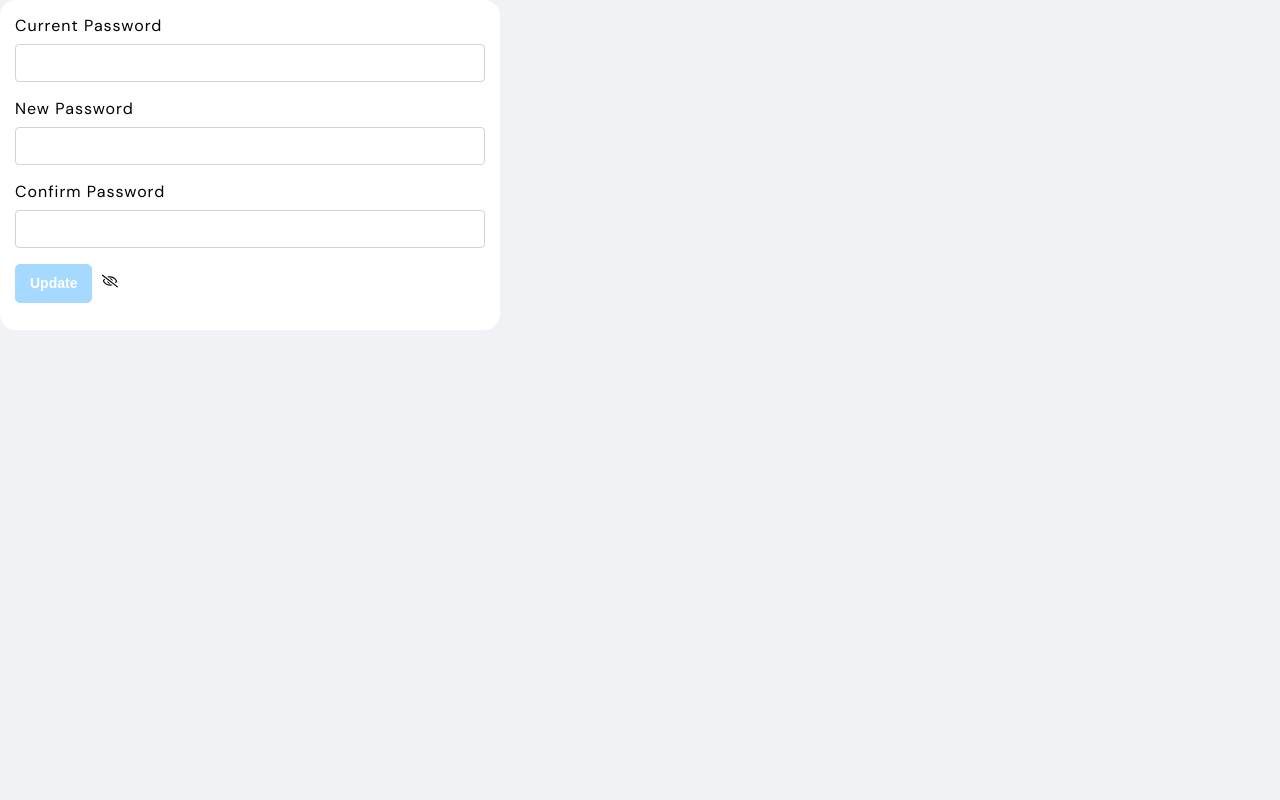
Test: ChangePassword › should have button enabled with inputs
Expected: the button is disabled, [15, 264, 92, 303]
Type "querty" into the password field labelled "Current Password". click: (250, 63)
box: [15, 44, 485, 82]
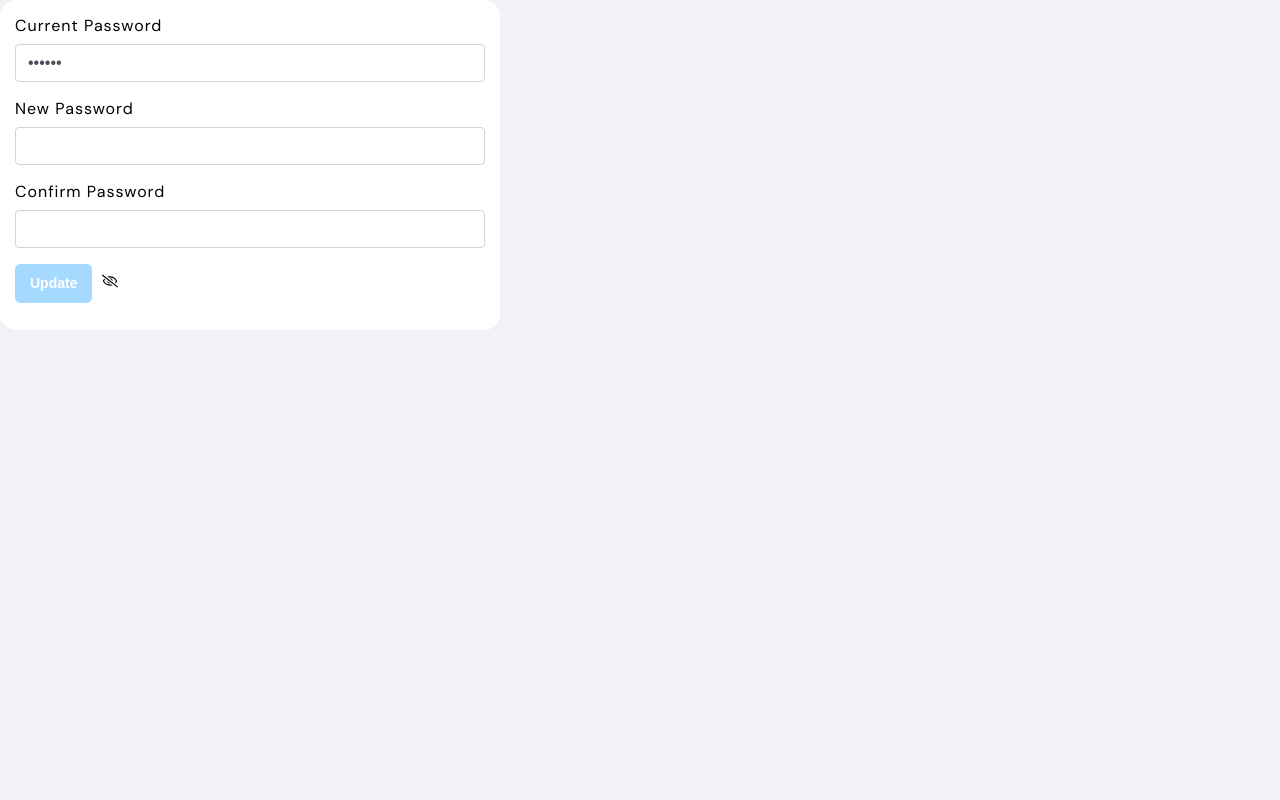
Type "qwerty1" into the password field labelled "New Password". click: (250, 146)
box: [15, 127, 485, 165]
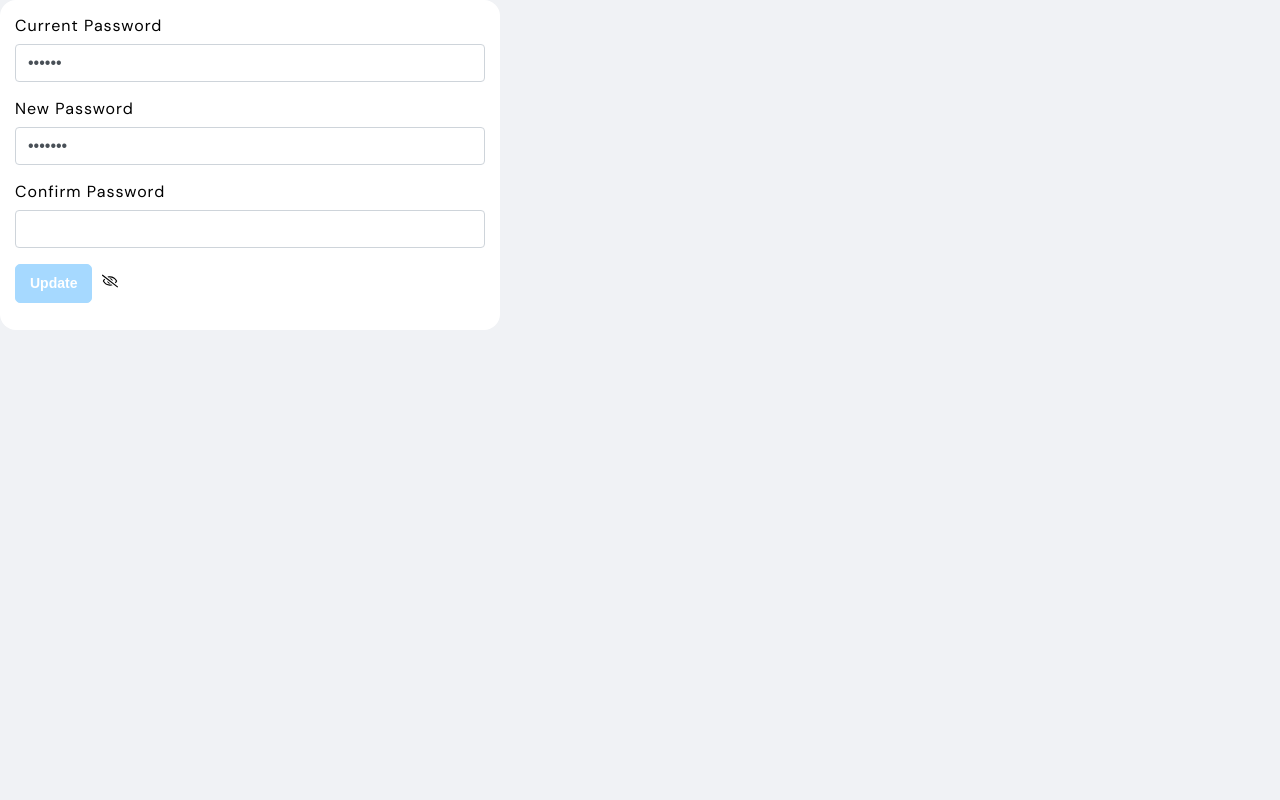
Type "qwerty1" into the password field labelled "Confirm Password". click: (250, 229)
box: [15, 210, 485, 248]
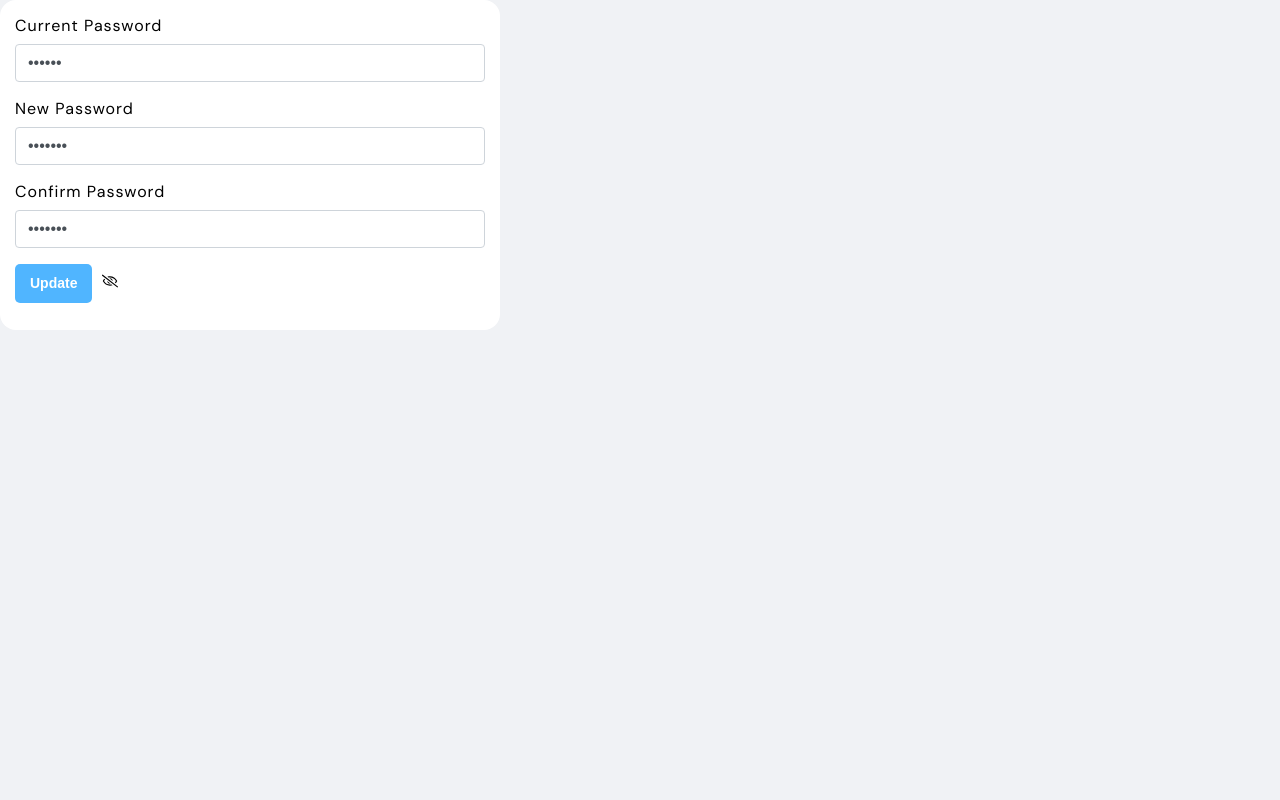
Now the button is enabled, box [15, 264, 92, 303]
